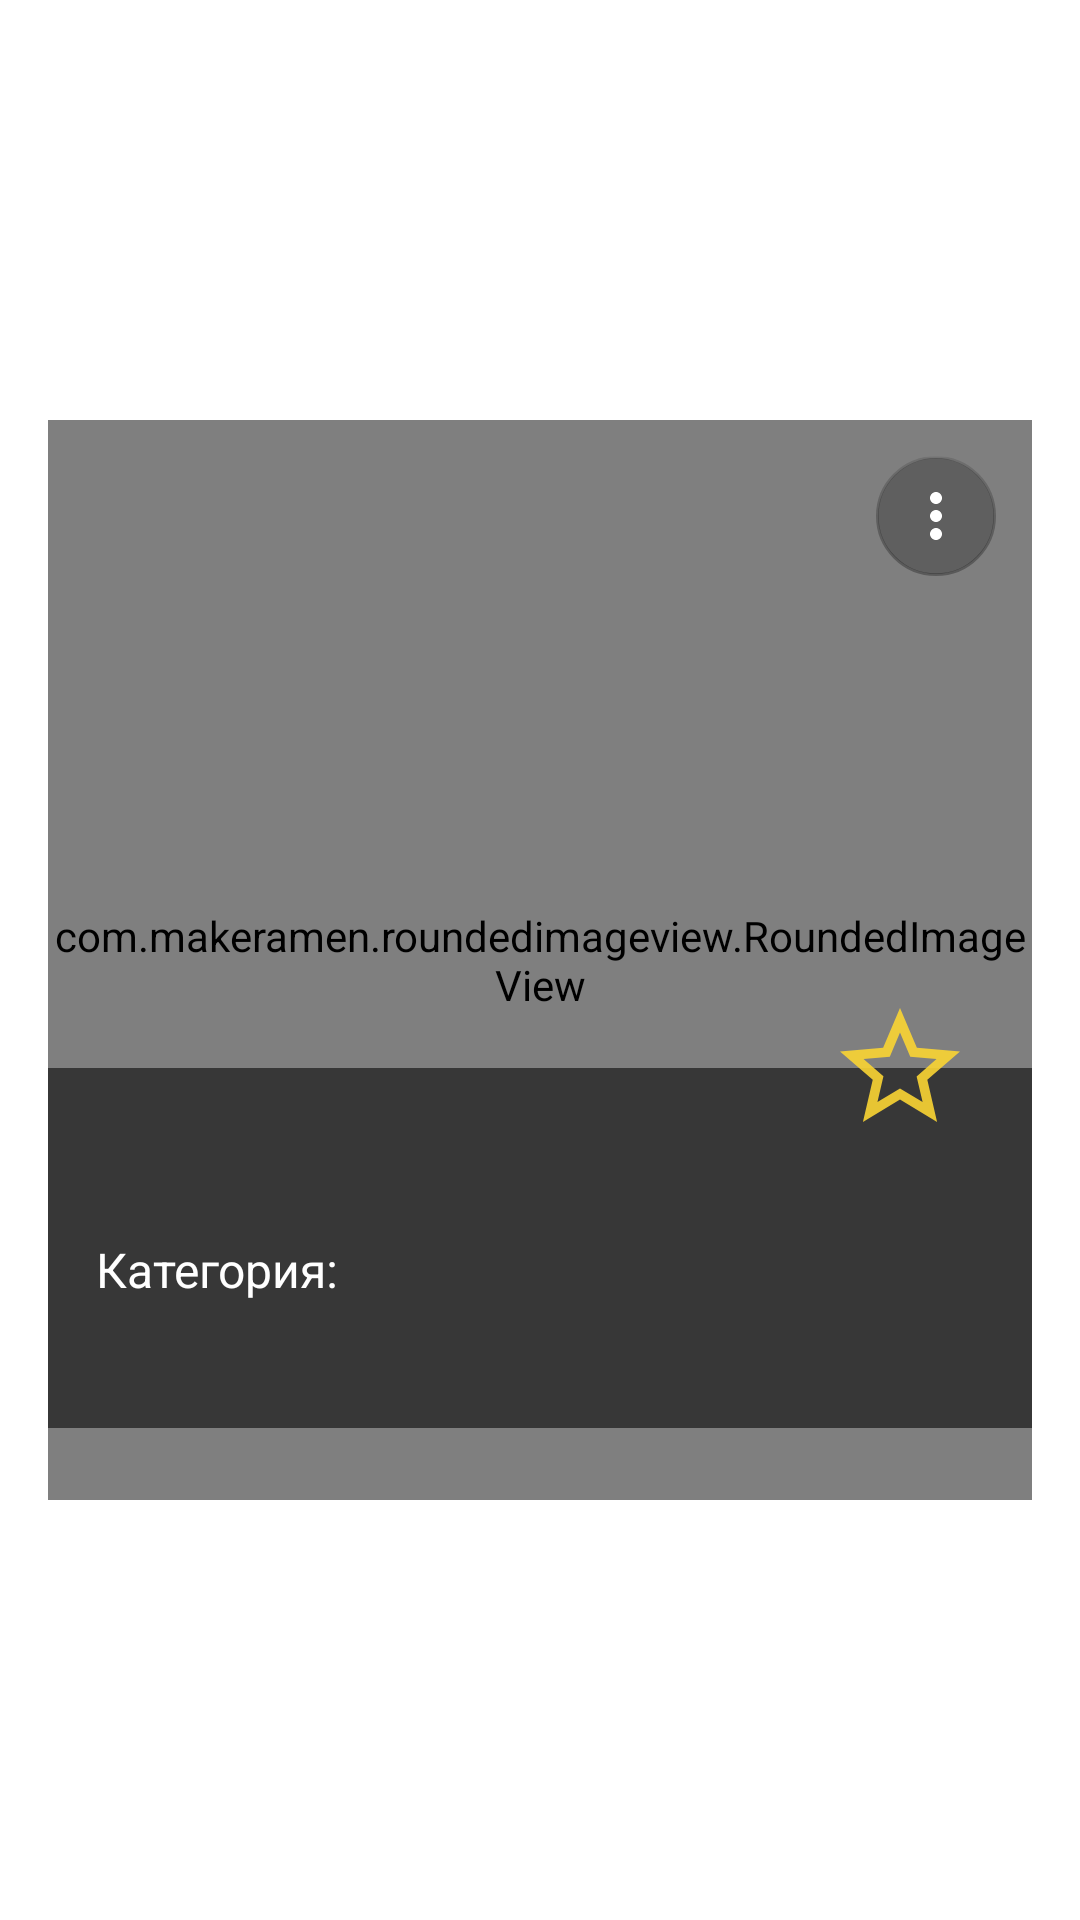

Icons on this 1080px×1920px Android screen, each with the point to tap as (x,y):
favorite: (906,1068)
Действия с рецептом: (936,517)
